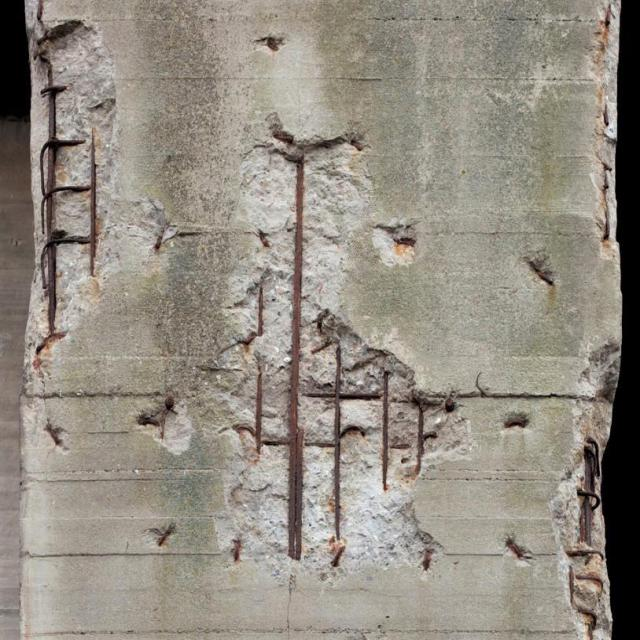Rebar: (191, 110, 477, 580), (20, 0, 119, 452), (545, 338, 621, 639), (587, 0, 621, 259), (120, 195, 180, 277), (131, 394, 194, 454), (518, 247, 558, 288), (492, 531, 534, 566), (138, 520, 178, 550), (253, 31, 290, 54), (497, 410, 531, 433)
vertical crack: (282, 574, 295, 639)
